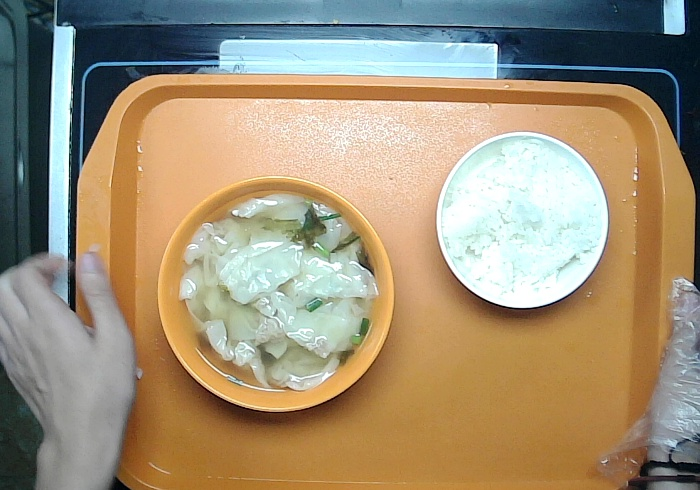NLDX-Fan_Wan: (429, 125, 615, 315)
NLDX-Hun_Tun_Wan: (152, 166, 403, 411)
